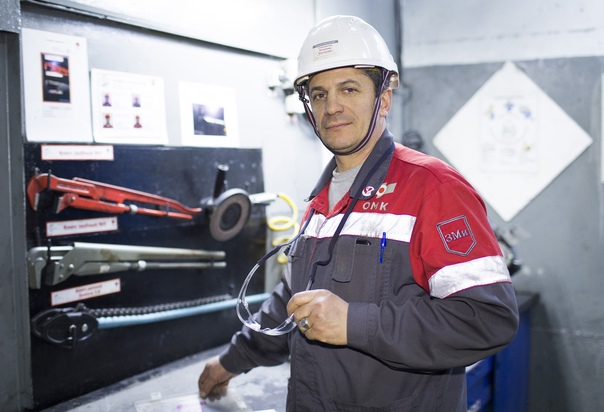person: (198, 16, 519, 412)
